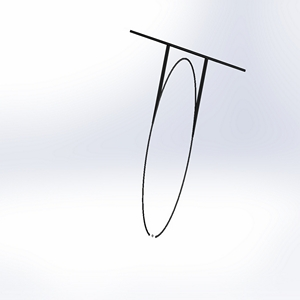circle: (121, 20, 248, 241)
